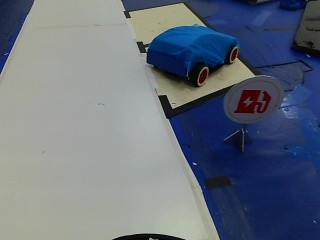battery: (224, 78, 276, 125)
car: (139, 19, 244, 88)
